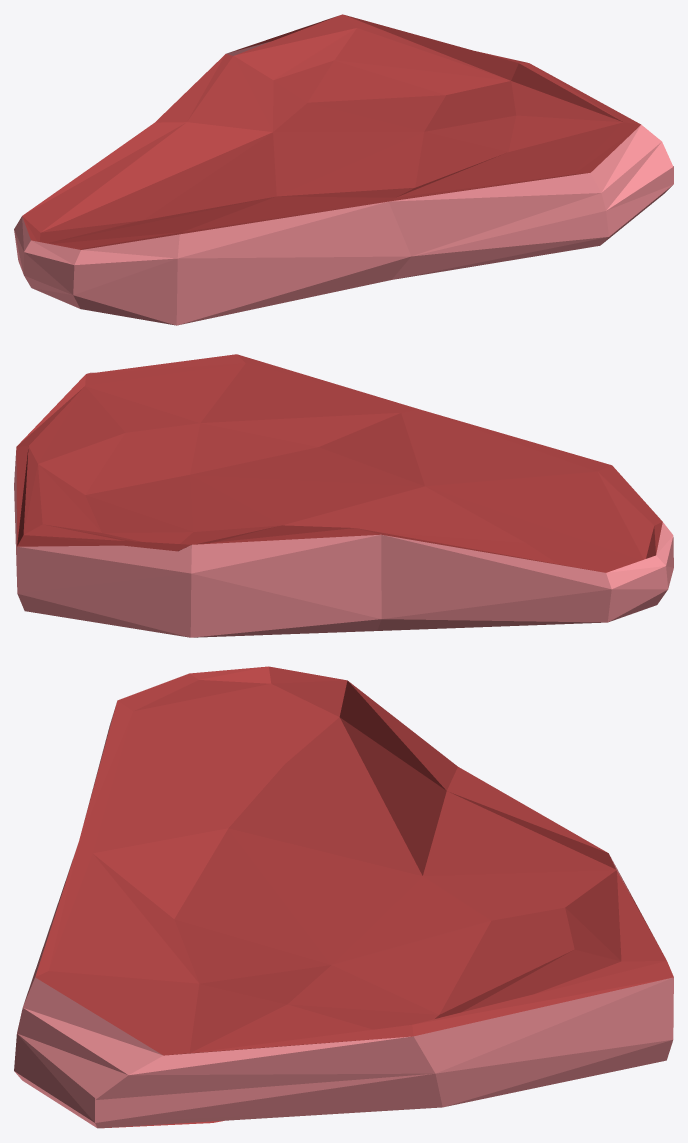
Rendered from SFI_Meat_Cooked_002.fbx.
The picture shows the model from 3 angles, top to bottom: view 1: azimuth 30°, elevation 25°; view 2: azimuth 150°, elevation 25°; view 3: azimuth 270°, elevation 25°; orthographic projection. The views are drawn at different scales.
Parts seen in each view (by area): view 1: SFI_Meat_Cooked_002; view 2: SFI_Meat_Cooked_002; view 3: SFI_Meat_Cooked_002.
Part boxes in pixels (left/top/right/bottom): SFI_Meat_Cooked_002: left=14, top=14, right=673, bottom=325; SFI_Meat_Cooked_002: left=14, top=354, right=673, bottom=637; SFI_Meat_Cooked_002: left=14, top=666, right=673, bottom=1128.
Bounding box in the file's own units: 71.64 × 10.9 × 49.22.
